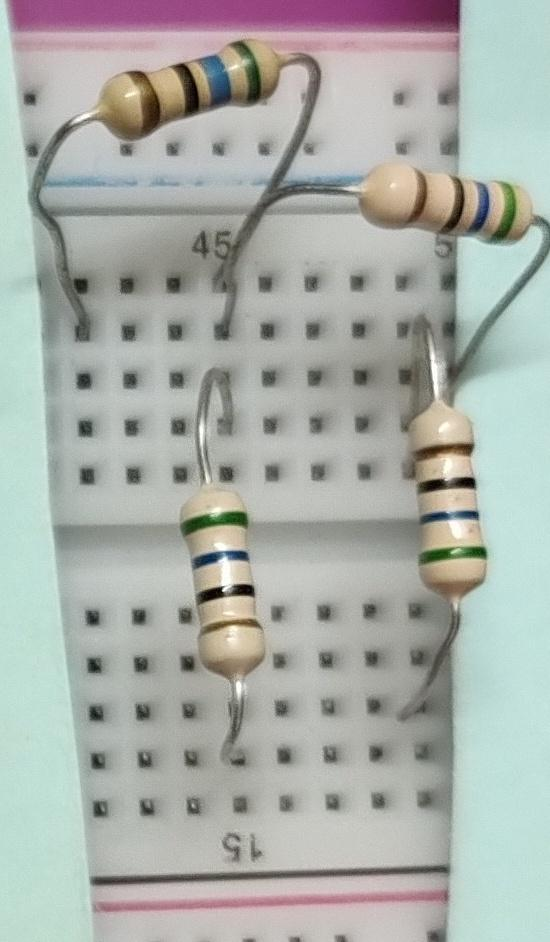resistor: (72, 27, 290, 145), (168, 470, 288, 682), (387, 390, 508, 598), (350, 155, 542, 265)
